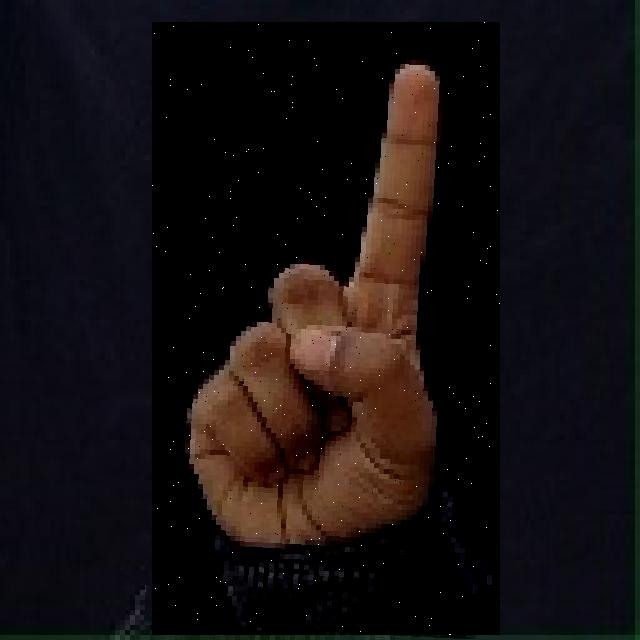IloveYou: (152, 22, 500, 635)
